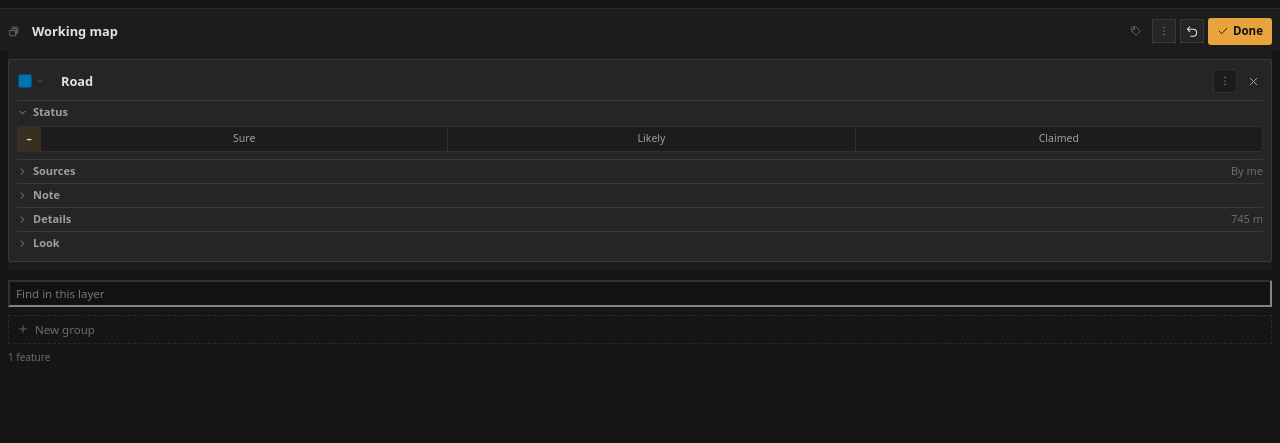
Test case: personal layers › edits a line by its colour, with no icon, direction or place promotion
Check: the element with class "dot" is shown, box [18,74,32,88]
Click the button "Details 745 m".
click(52, 218)  # box [17,207,1263,231]
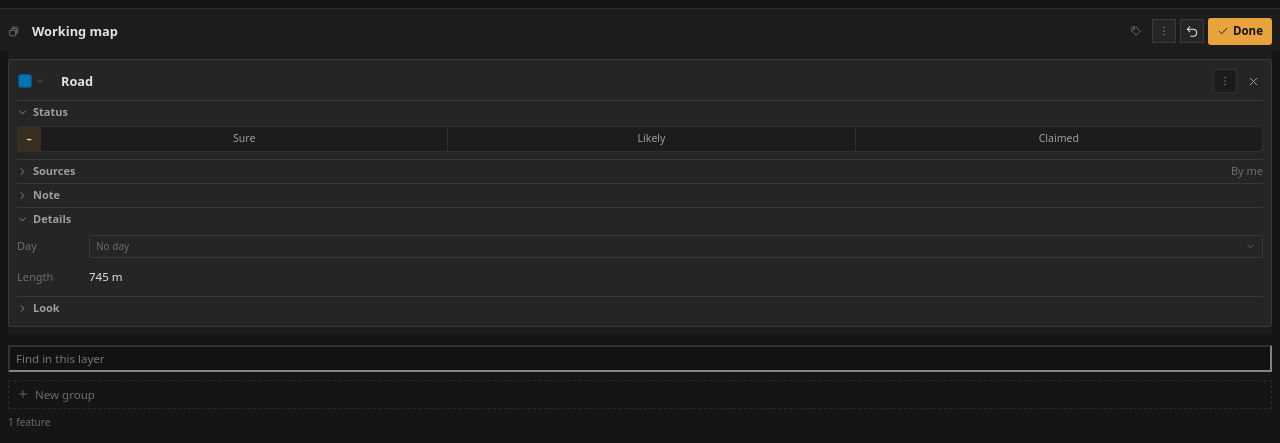
Check: the element named "Feature" shows "Length", box [17,268,53,284]
Click the button named "Feature actions".
click(1225, 81)  # box [1213,69,1237,93]
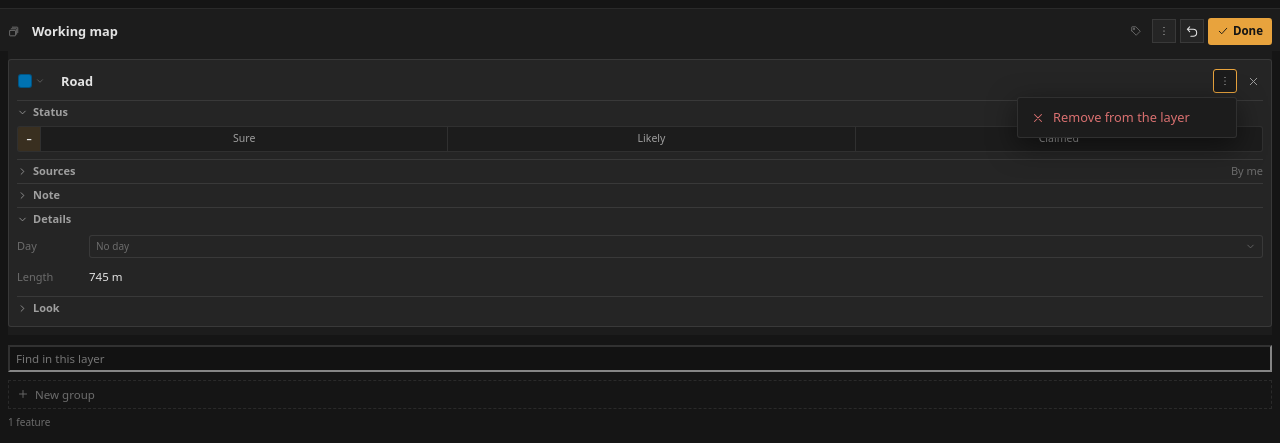
Check: the button with class "fm-item" is shown, box [1023,103,1231,132]
